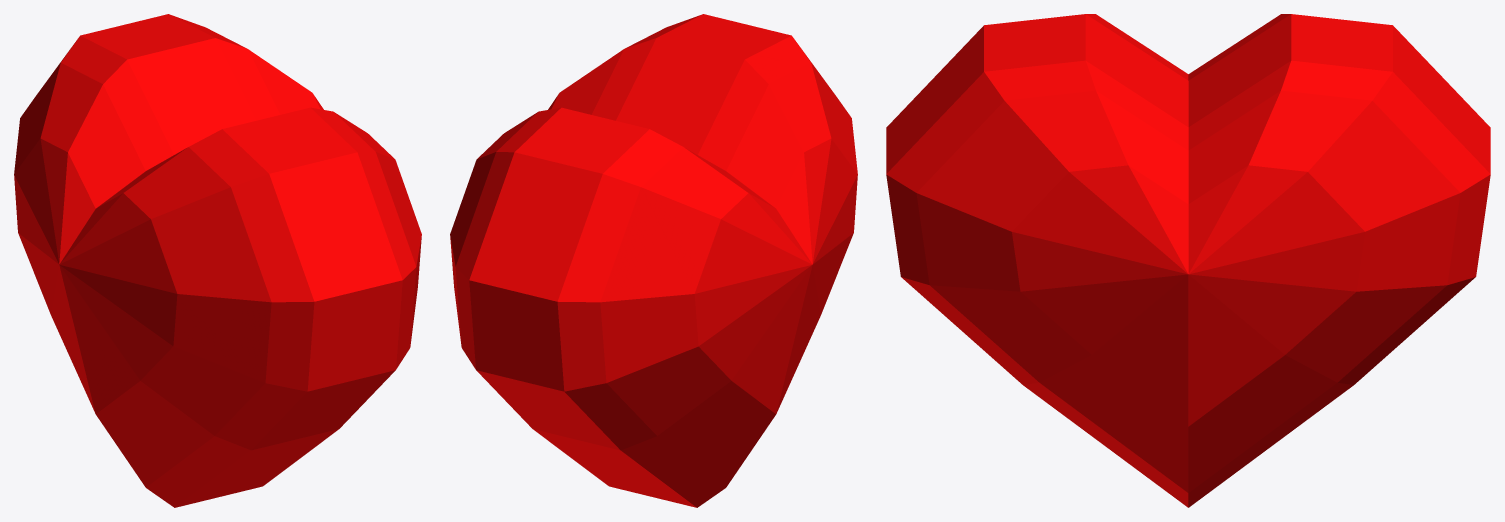
The model's file is Heart.obj.
3 renders of one model, left to right at view 1: azimuth 30°, elevation 25°; view 2: azimuth 150°, elevation 25°; view 3: azimuth 270°, elevation 25°, orthographic. The views are drawn at different scales.
Parts seen in each view (by area): view 1: Cylinder.001_Cylinder.003; view 2: Cylinder.001_Cylinder.003; view 3: Cylinder.001_Cylinder.003.
Part boxes in pixels (x1,y1,x2,y2): Cylinder.001_Cylinder.003: (14, 14, 421, 507); Cylinder.001_Cylinder.003: (450, 14, 857, 507); Cylinder.001_Cylinder.003: (886, 14, 1490, 507).
Bounding box in the file's own units: 1.15 × 1.43 × 1.75.
